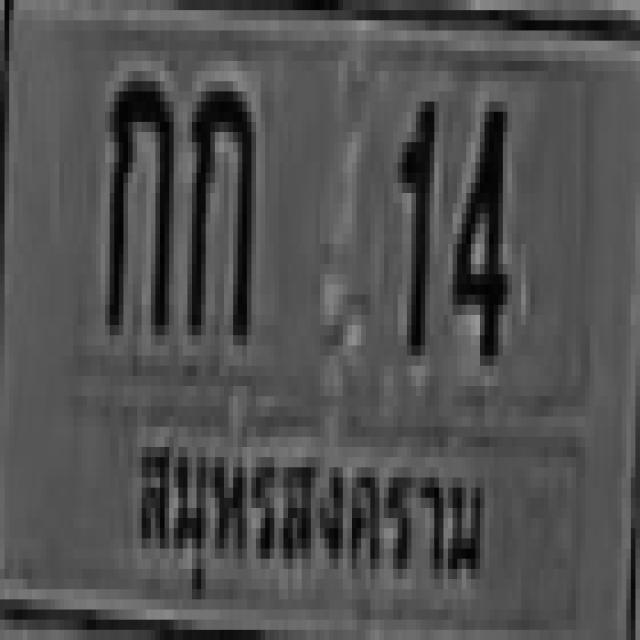1: (398, 92, 434, 346)
10GorGai: (105, 71, 169, 325), (185, 82, 249, 336)
4: (448, 92, 503, 356)
SamutSongkhram: (130, 418, 490, 623)
